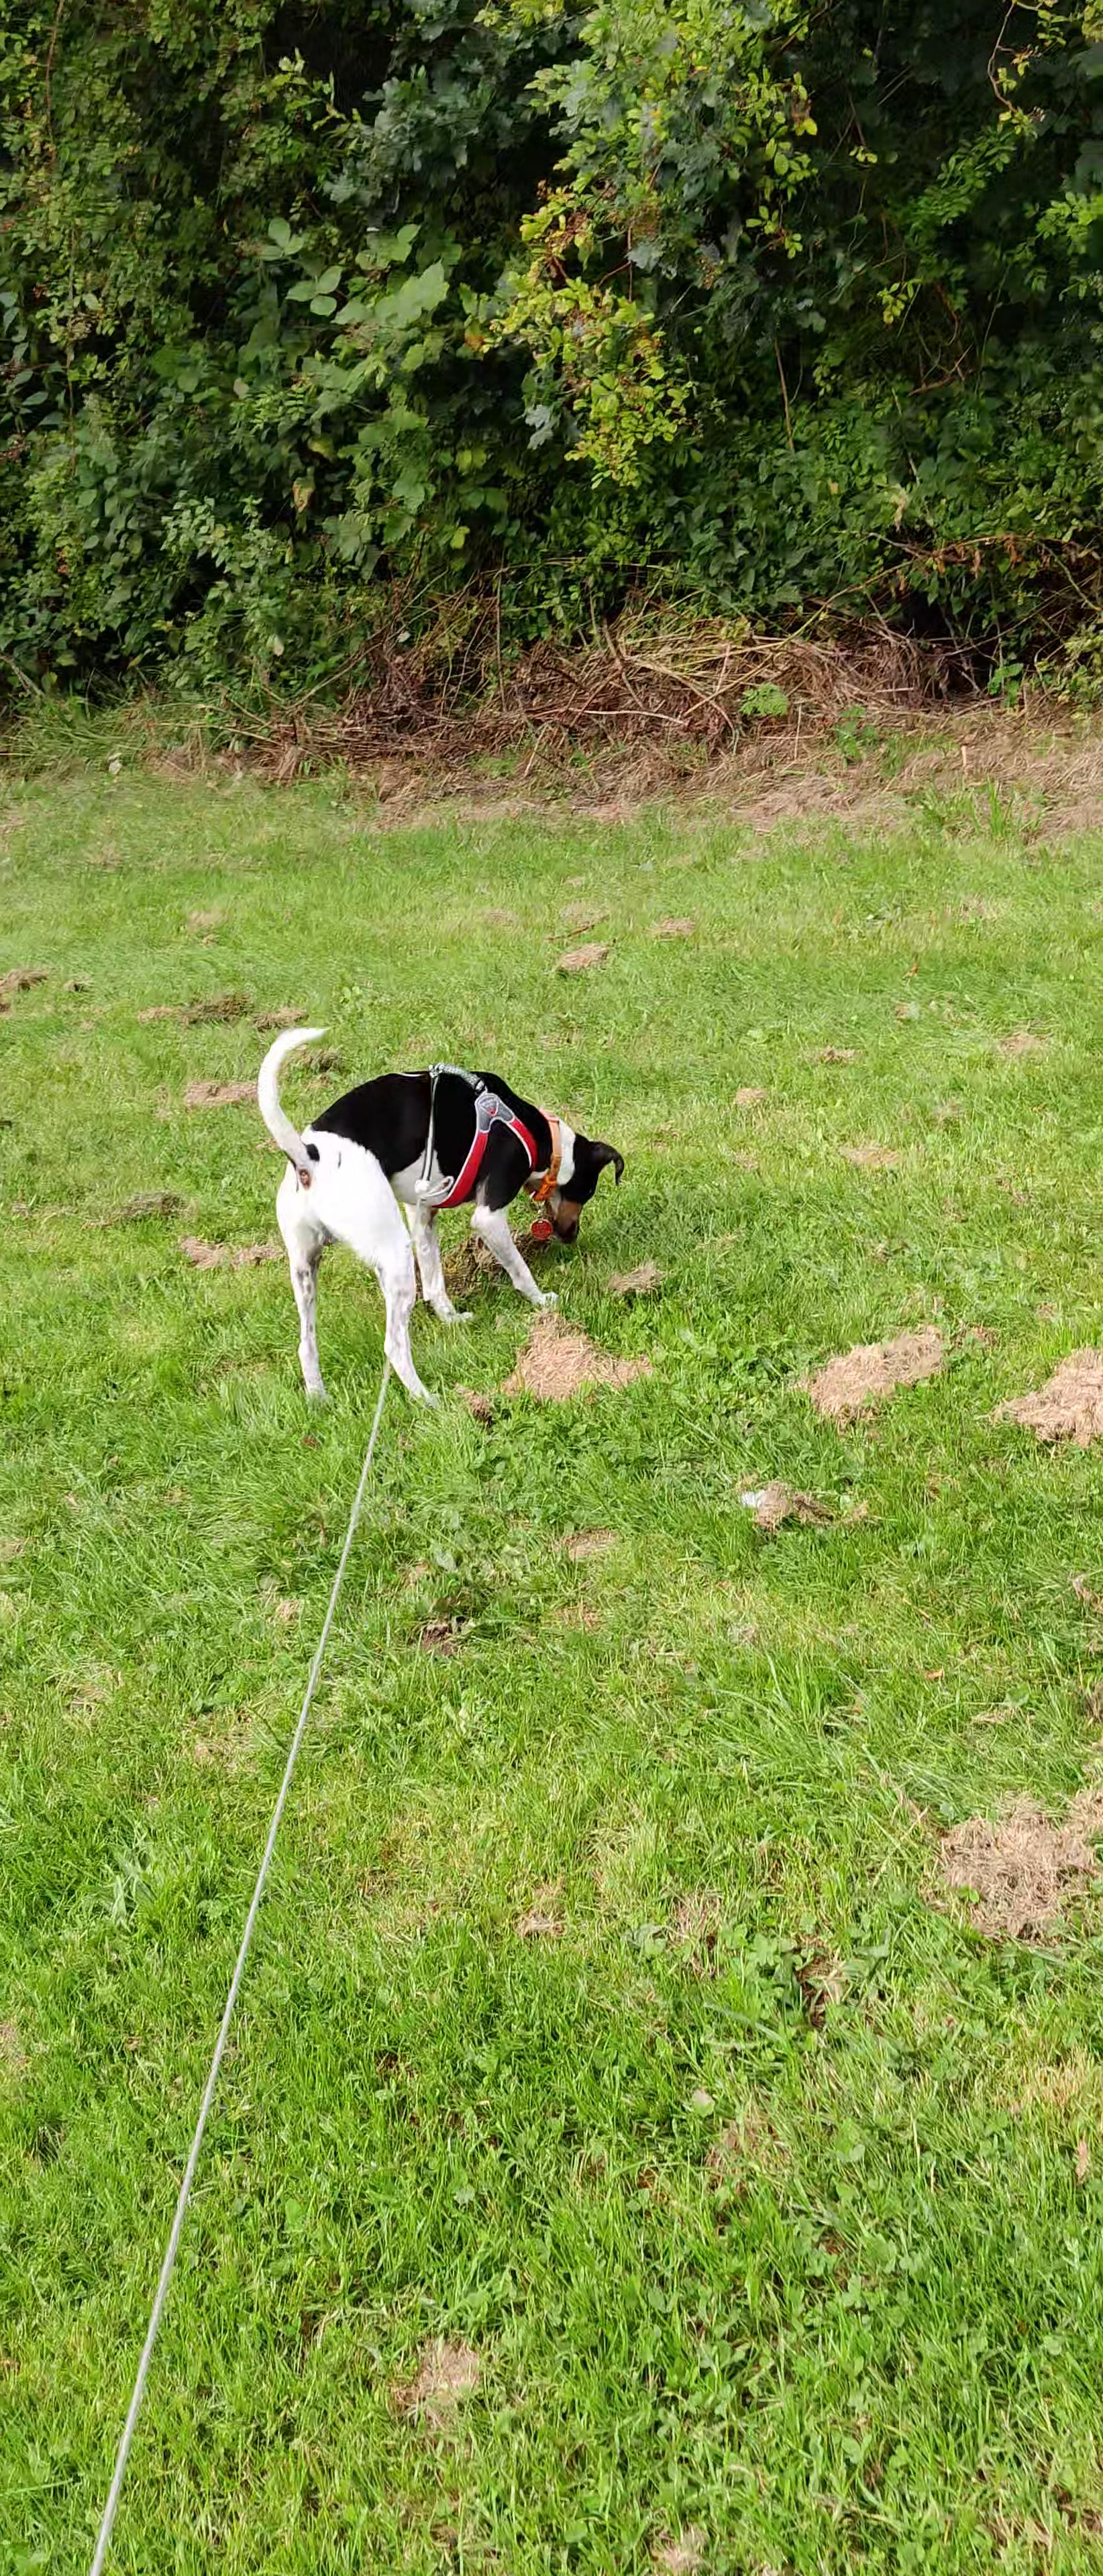Dog: (225, 1010, 646, 1423)
